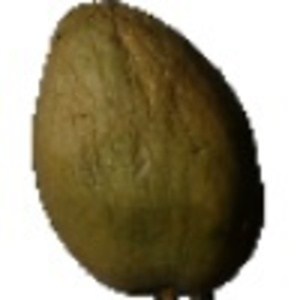mamão: (25, 2, 282, 292)
